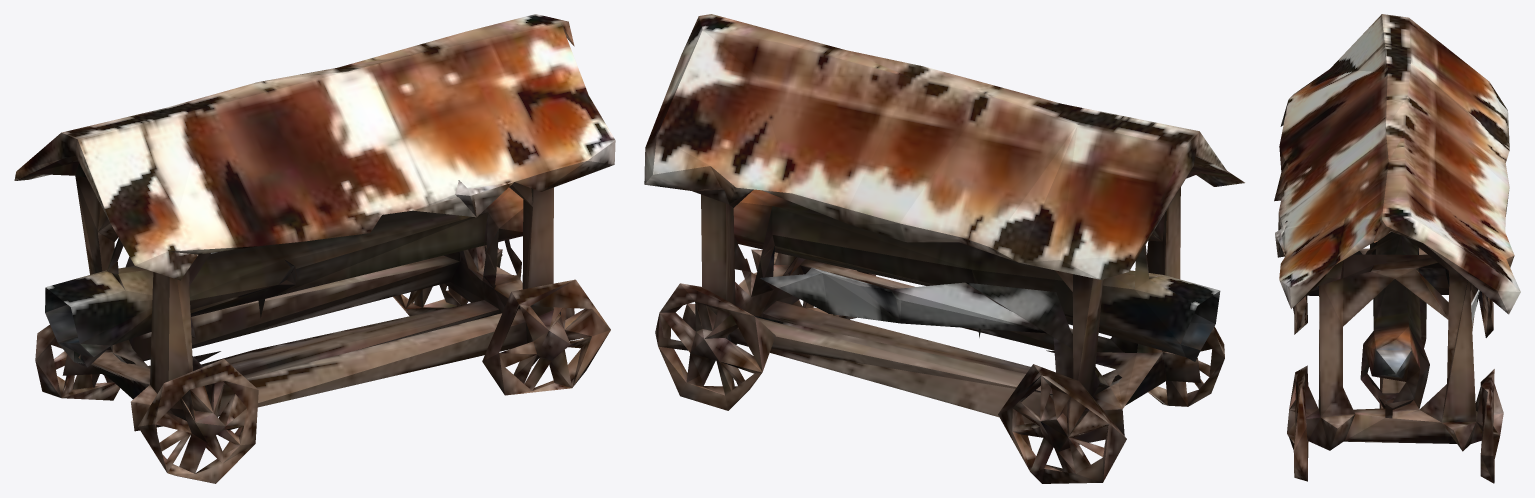
File: ga3_ram_lod1.glb
3 renders of one model, left to right at view 1: azimuth 30°, elevation 25°; view 2: azimuth 150°, elevation 25°; view 3: azimuth 270°, elevation 25°, orthographic. The views are drawn at different scales.
Parts seen in each view (by area): view 1: ga3_ram_lod1; view 2: ga3_ram_lod1; view 3: ga3_ram_lod1.
Part boxes in pixels (x1=…): ga3_ram_lod1: x1=14, y1=14, x2=615, y2=483; ga3_ram_lod1: x1=644, y1=14, x2=1244, y2=483; ga3_ram_lod1: x1=1274, y1=14, x2=1520, y2=483.
Bounding box in the file's own units: 6.91 × 4.27 × 3.36.
1 material, 1 textured.
